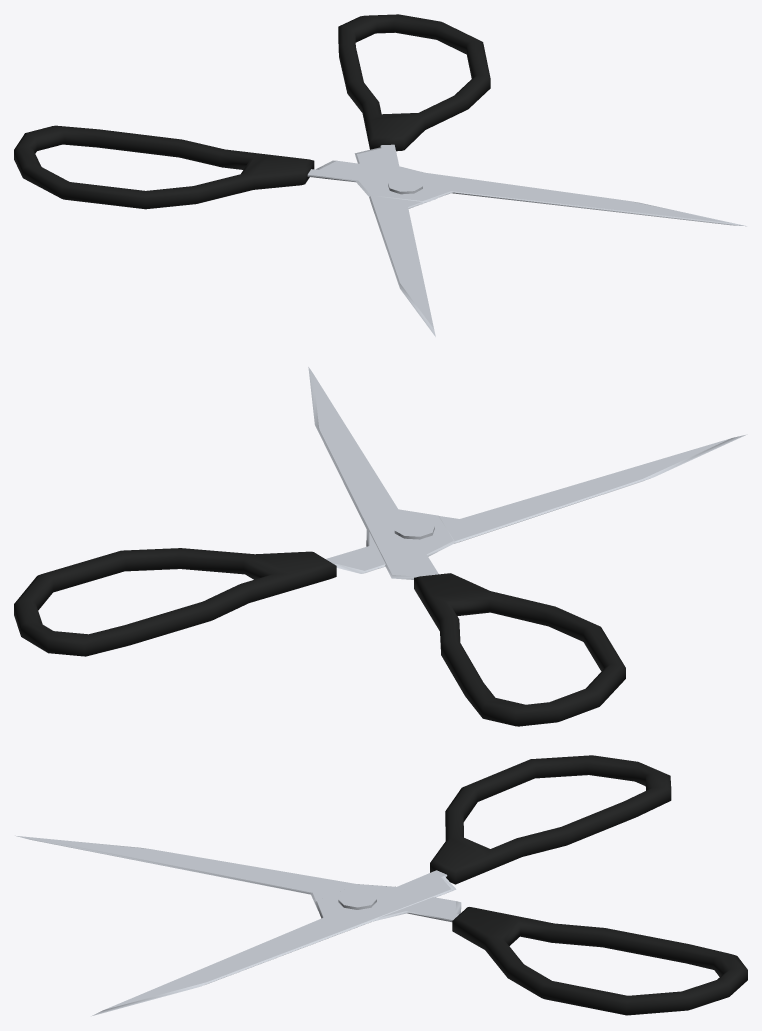
The model's file is misc_scissors_open.glb.
3 views of the same model, one above another, from view 1: azimuth 30°, elevation 25°; view 2: azimuth 150°, elevation 25°; view 3: azimuth 270°, elevation 25° (orthographic). The views are drawn at different scales.
Parts seen in each view (by area): view 1: misc scissors open; view 2: misc scissors open; view 3: misc scissors open.
Part boxes in pixels (left/top/right/bottom): misc scissors open: left=14, top=14, right=746, bottom=336; misc scissors open: left=14, top=367, right=747, bottom=726; misc scissors open: left=15, top=755, right=747, bottom=1016.
Size of the model in its own units: 2.69 by 0.0795 by 3.27.
Materials: 1 (1 with a texture image).
